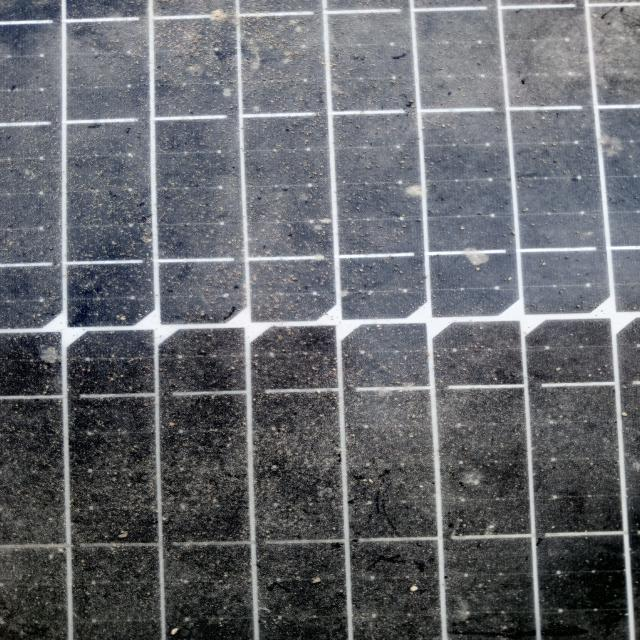Anomaly Solar Panel: (2, 0, 632, 638)
Surface Contaminant: (86, 86, 577, 638)
